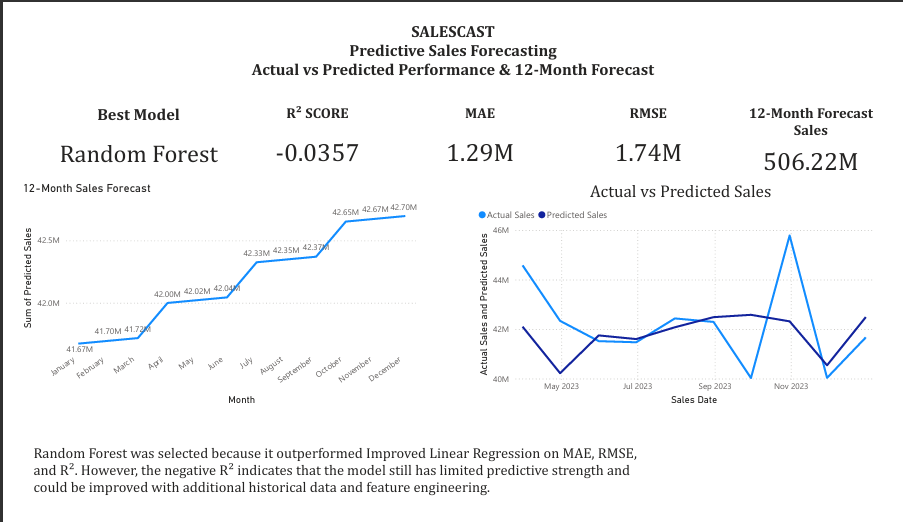

What the dashboard file says about the page in this screenshot:
{"tool":"powerbi","page":{"name":"Predictive Forcasting","canvas":[1280,720],"ordinal":1},"visuals":[{"type":"textbox","box":[224,0,832,96],"z":0},{"type":"lineChart","title":"12-Month Sales Forecast","fields":{"Category":["sales_forecast.Sales Date.Variation.Date Hierarchy.Month"],"Y":["Sum(sales_forecast.Predicted Sales)"]},"box":[0,240,592,336],"z":1000},{"type":"card","title":"12-Month Forecast Sales","fields":{"Values":["Sum(sales_forecast.Predicted Sales)"]},"box":[1056,128,224,112],"z":2000},{"type":"lineChart","title":"Actual vs Predicted Sales","fields":{"Y":["Sum(actual_vs_predicted.Actual Sales)","Sum(actual_vs_predicted.Predicted Sales)"],"Category":["actual_vs_predicted.Sales Date"]},"box":[672,240,608,336],"z":2001},{"type":"card","title":"Best Model","fields":{"Values":["Min(Model Performance.Best Model)"]},"box":[32,128,288,112],"z":2002},{"type":"card","title":"R² SCORE ","fields":{"Values":["Sum(Model Performance.R²)"]},"box":[320,128,240,112],"z":2003},{"type":"card","title":"MAE","fields":{"Values":["Sum(Model Performance.MAE)"]},"box":[560,128,240,112],"z":2004},{"type":"card","title":"RMSE","fields":{"Values":["Sum(Model Performance.RMSE)"]},"box":[816,128,224,112],"z":2005},{"type":"textbox","box":[16,624,928,96],"z":2006}]}

Visuals, with their boxes in screenshot pixels (x1, y1, x2, y2), scaled from the page's 1280x720 canvas onto the 903x522 screenshot:
textbox: pyautogui.locateOnScreen(158, 0, 745, 70)
"12-Month Sales Forecast" lineChart: pyautogui.locateOnScreen(0, 174, 418, 418)
"12-Month Forecast Sales" card: pyautogui.locateOnScreen(745, 93, 902, 174)
"Actual vs Predicted Sales" lineChart: pyautogui.locateOnScreen(474, 174, 902, 418)
"Best Model" card: pyautogui.locateOnScreen(23, 93, 226, 174)
"R² SCORE " card: pyautogui.locateOnScreen(226, 93, 395, 174)
"MAE" card: pyautogui.locateOnScreen(395, 93, 564, 174)
"RMSE" card: pyautogui.locateOnScreen(576, 93, 734, 174)
textbox: pyautogui.locateOnScreen(11, 452, 666, 521)
